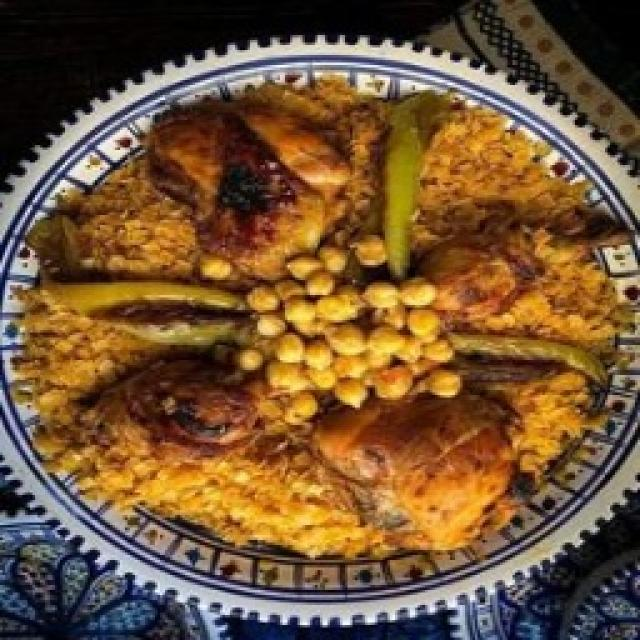Couscous: (11, 79, 630, 560)
